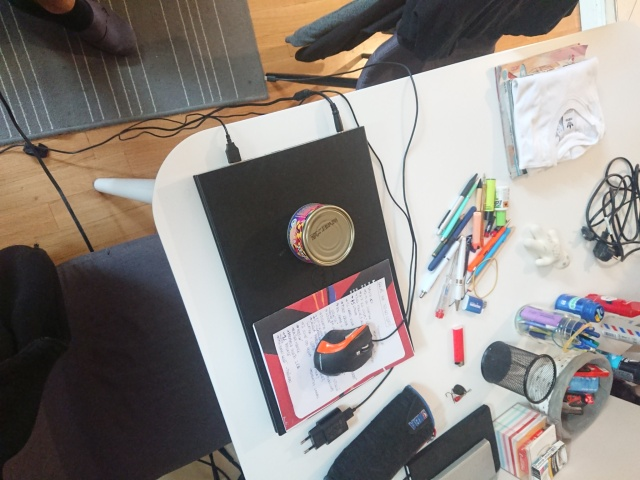Giana Tuna Salad Mexico 185g: (285, 200, 357, 269)
